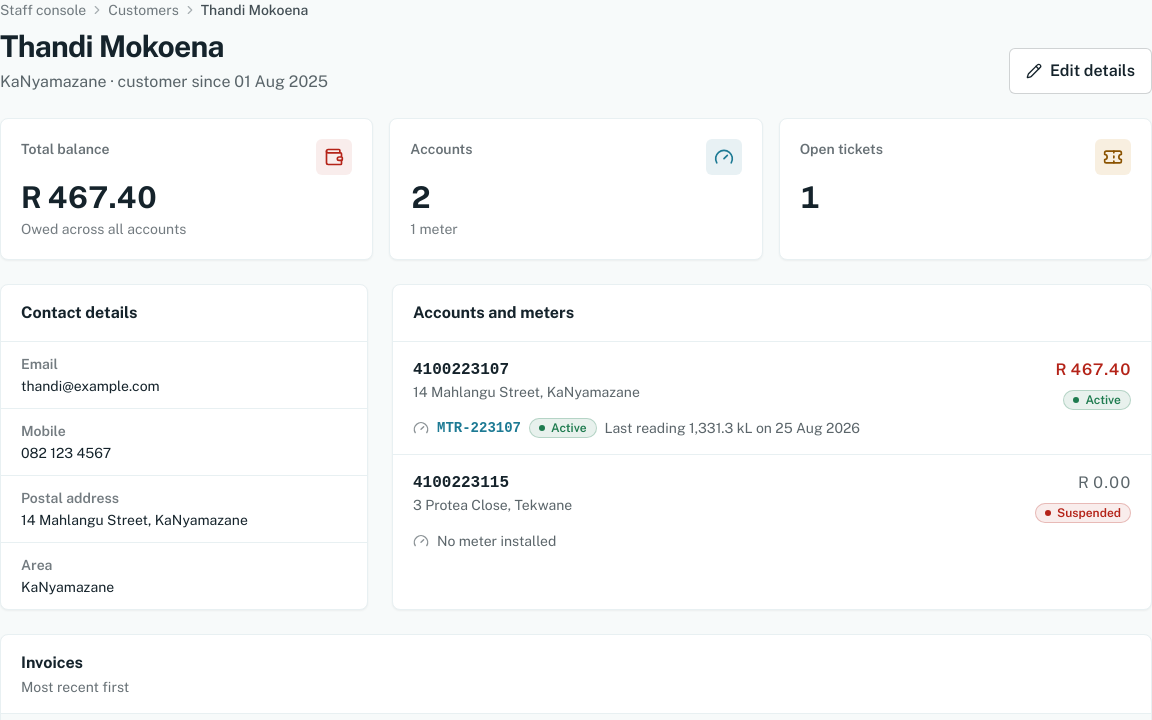
Test: CustomerDetailPage › keeps the dialog open with a friendly message if saving is refused
Step 1. Click the button "Edit details" → (1080, 71), box [1009,48,1151,94]
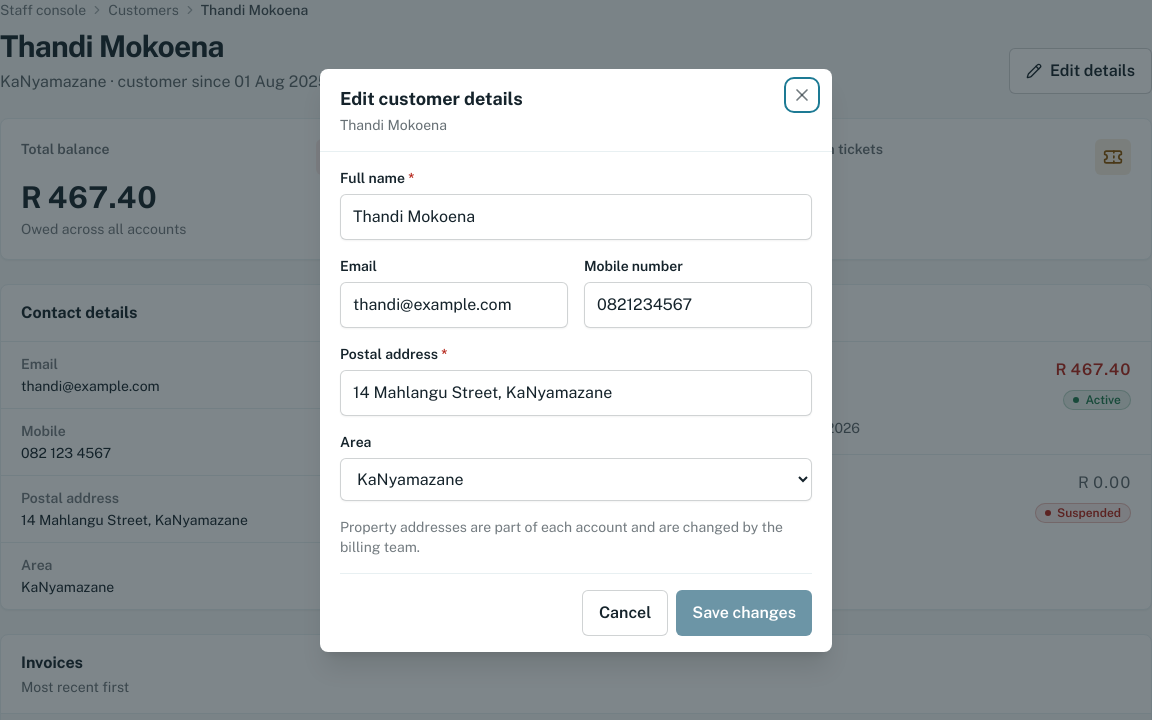
Step 2. Type " Jr" into the field labelled "Full name *" → (576, 216), box [340,194,812,240]
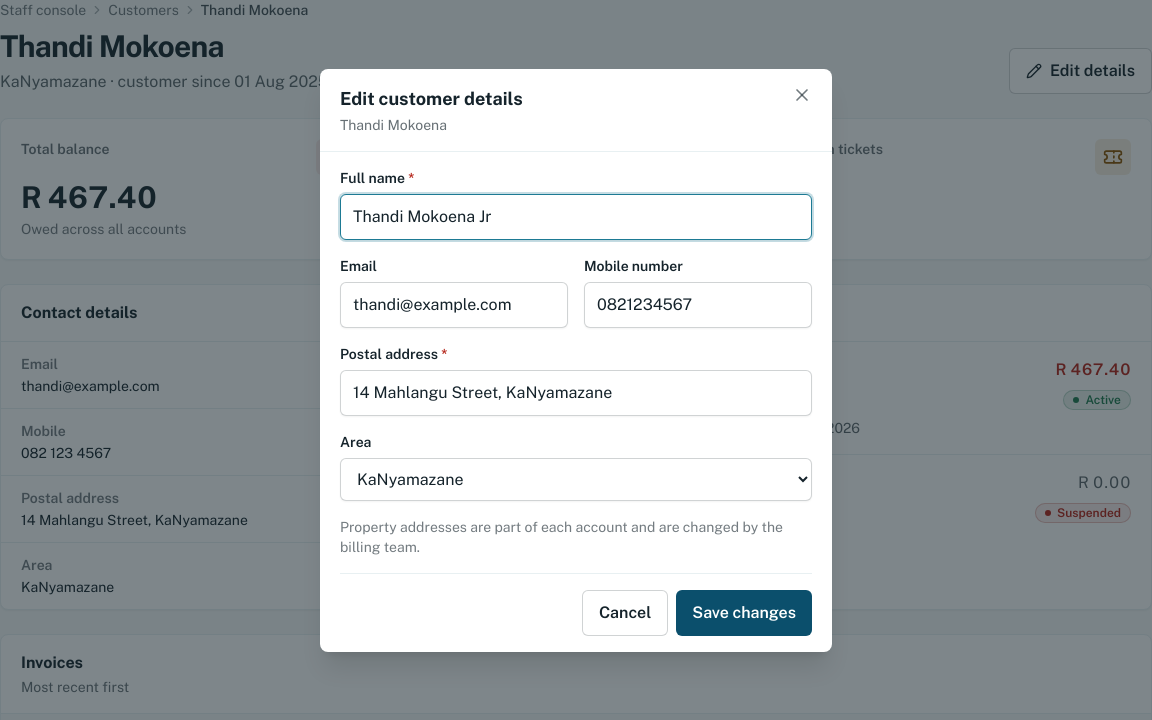
Step 3. Click the button "Save changes" → (744, 612), box [676,590,812,636]
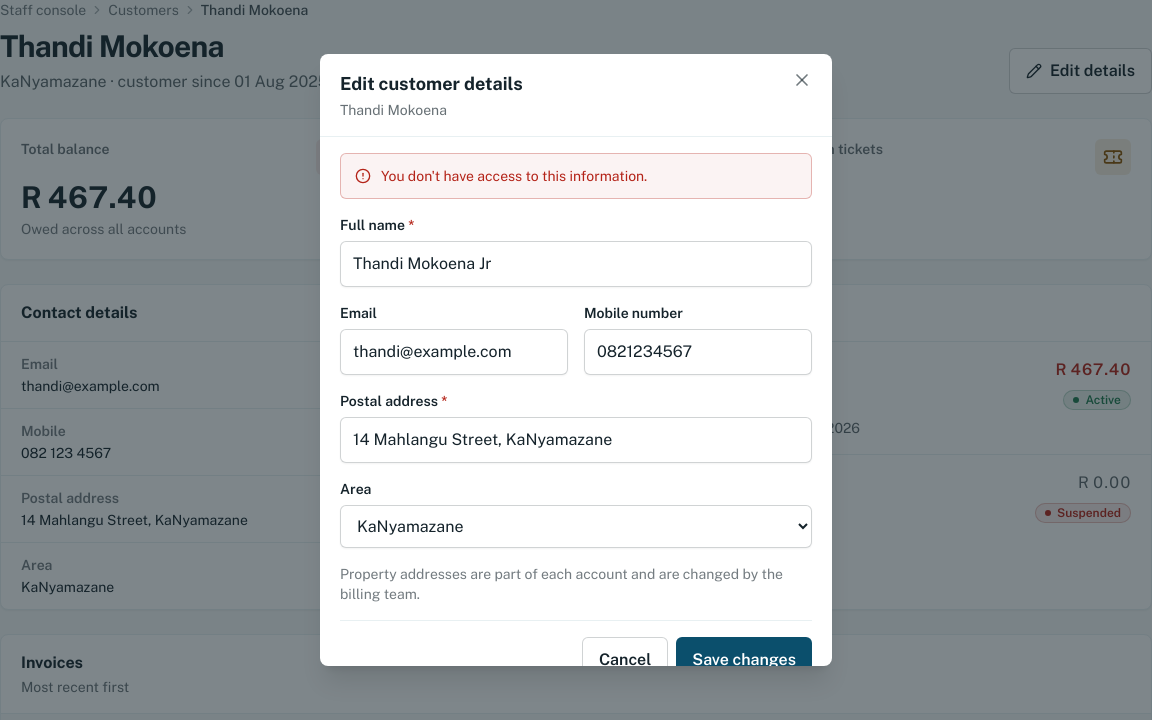
Expected: the text "You don't have access to this information." is shown, [381,166,647,186]
